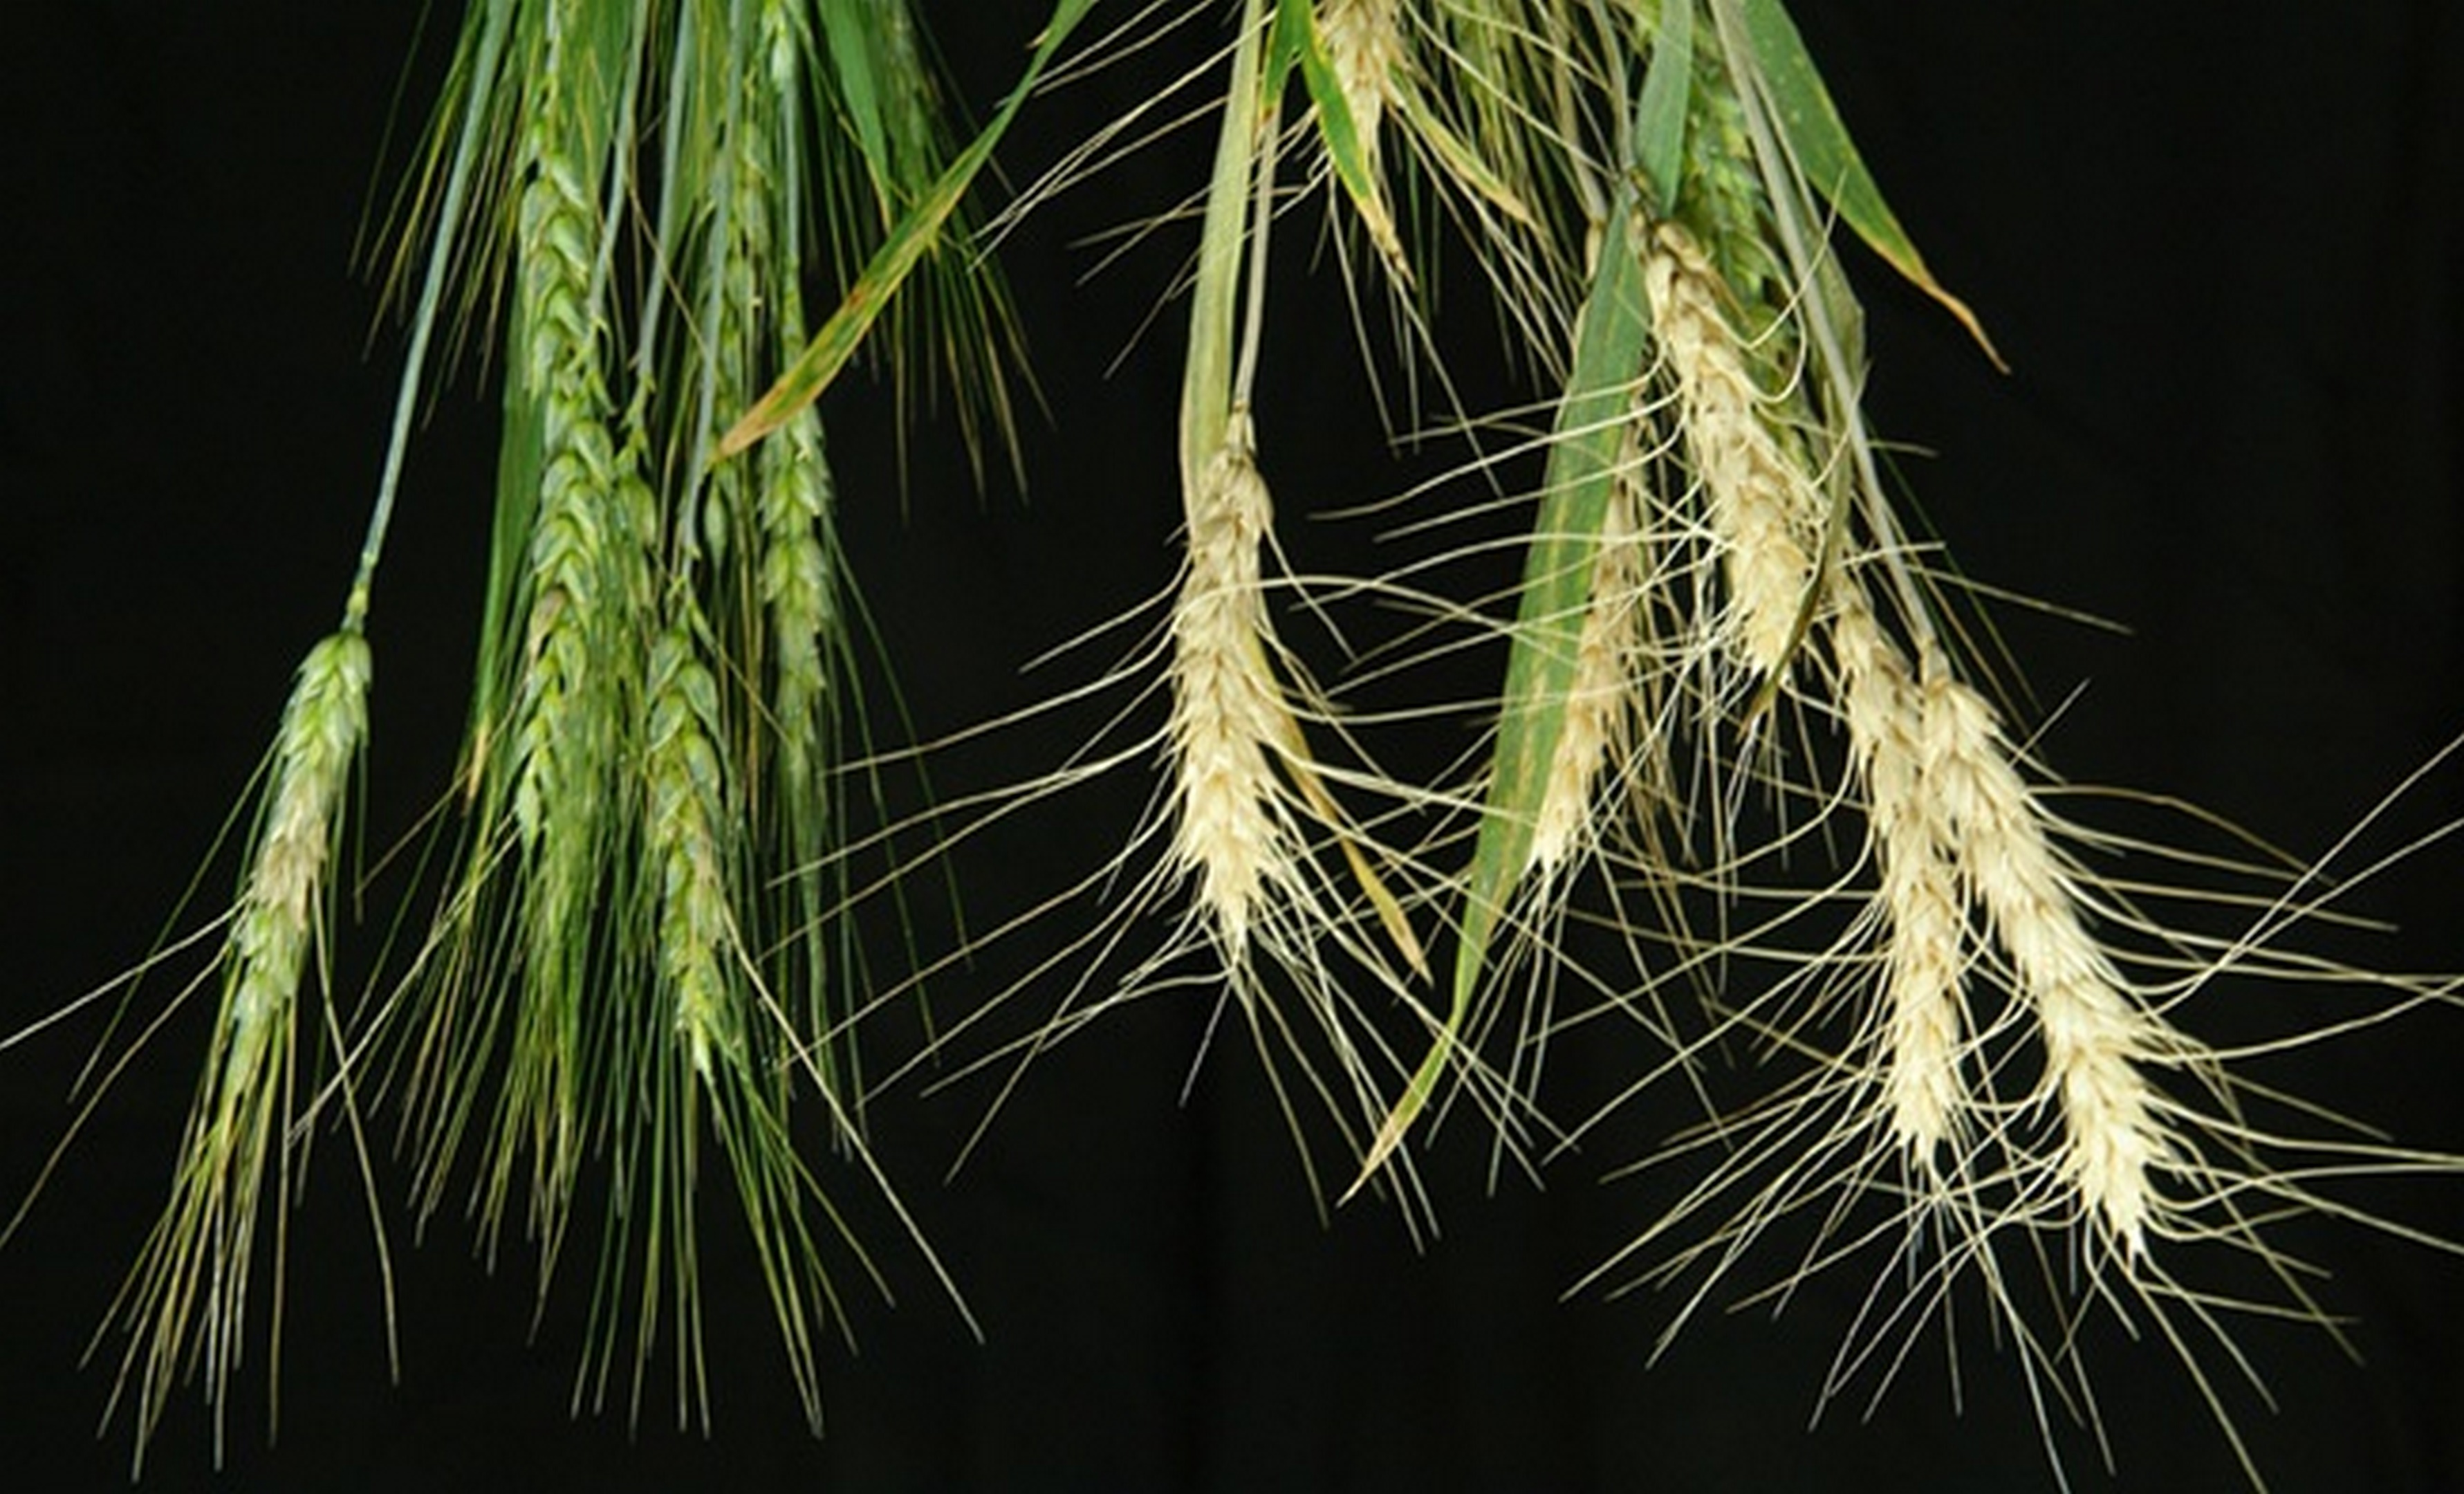Healthy Wheat: (1563, 239, 2218, 1295), (459, 213, 922, 1093)
